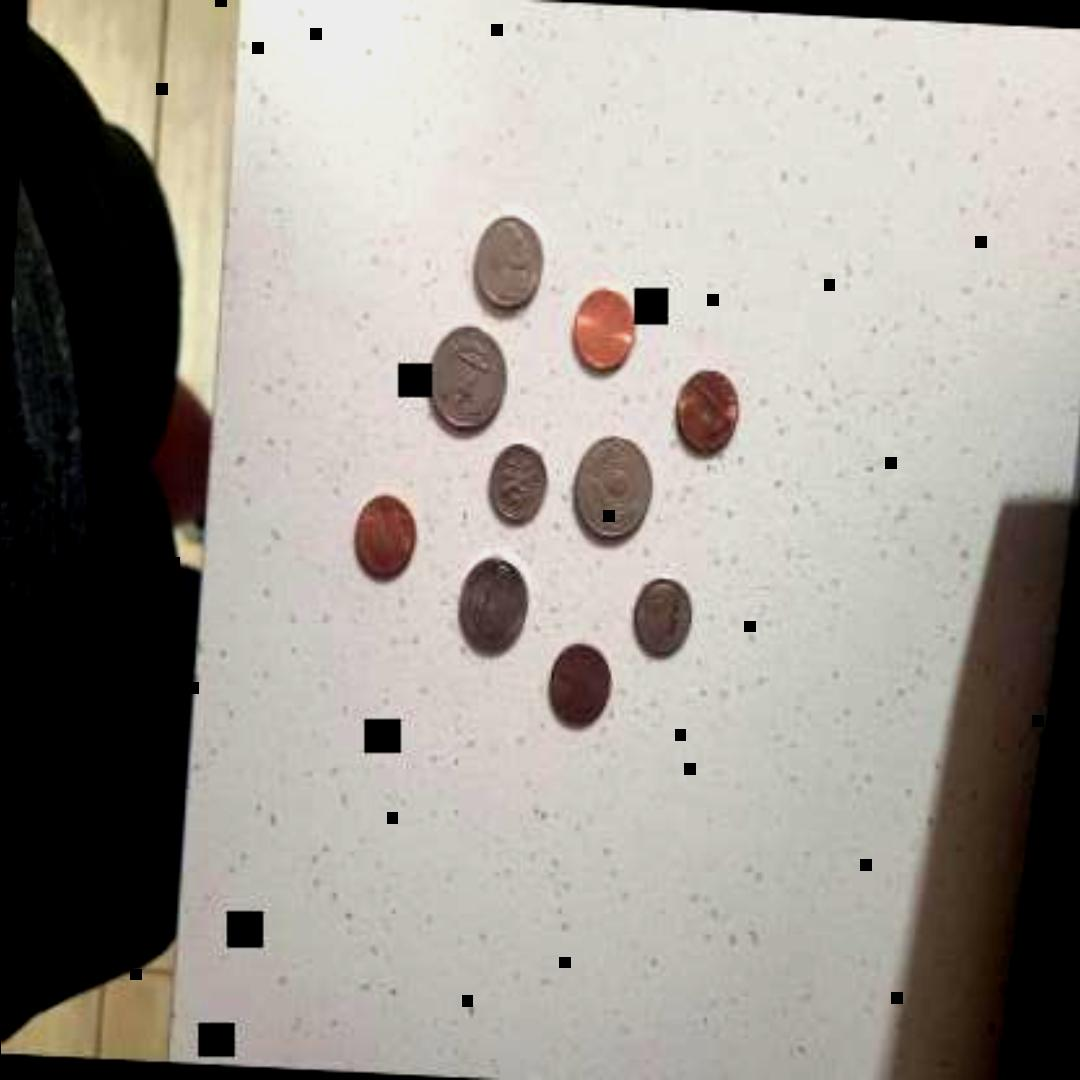Dime: (627, 573, 699, 661), (484, 437, 550, 522)
Nickel: (458, 552, 534, 653), (472, 212, 550, 310)
Penny: (543, 636, 615, 732), (352, 487, 424, 583), (670, 366, 744, 454), (569, 284, 641, 370)
Quarter: (568, 428, 658, 548), (425, 319, 513, 428)
